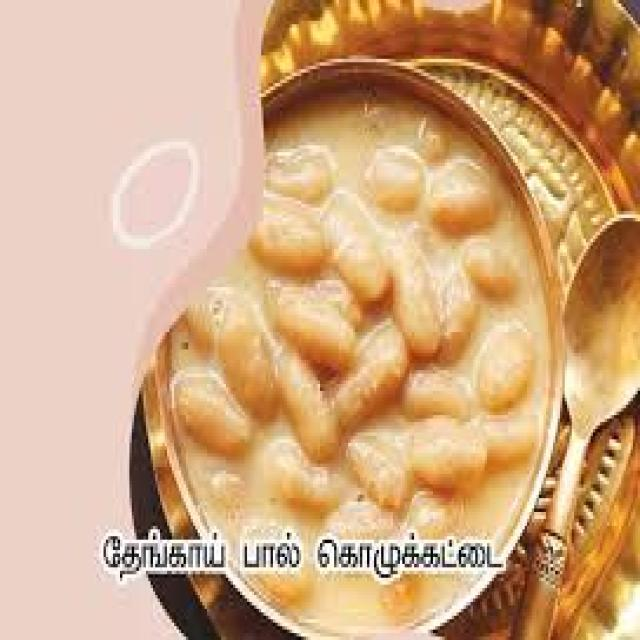paal kolukattai: (142, 59, 529, 524)
